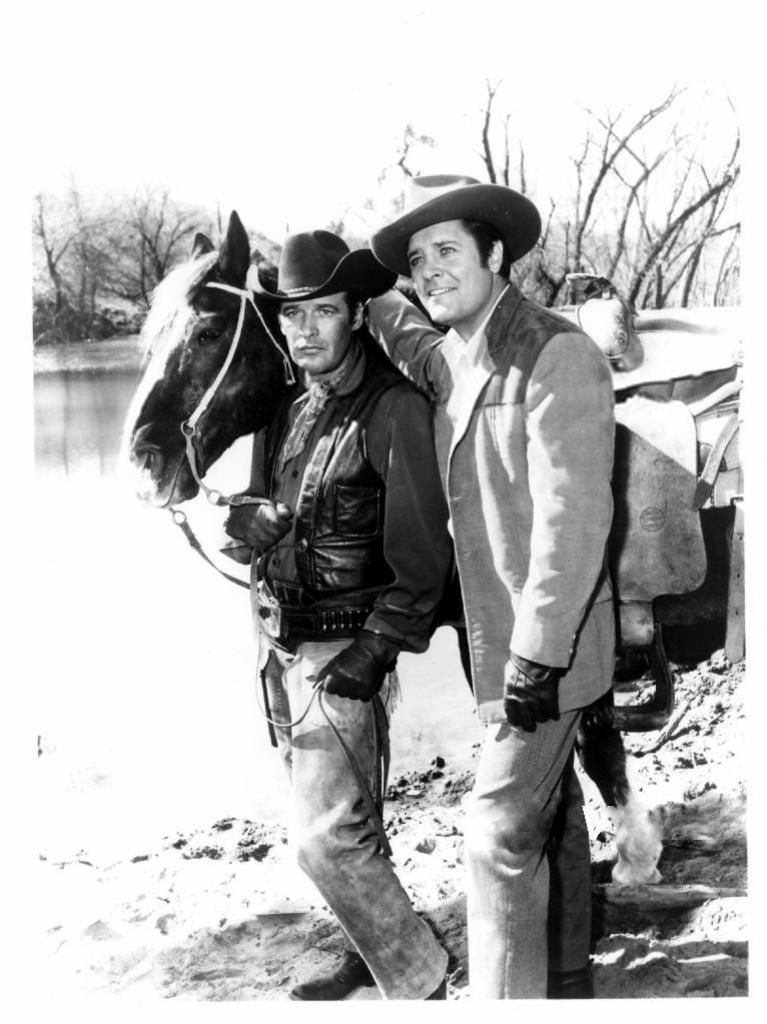Hat: (371, 173, 542, 281), (248, 232, 401, 306)
